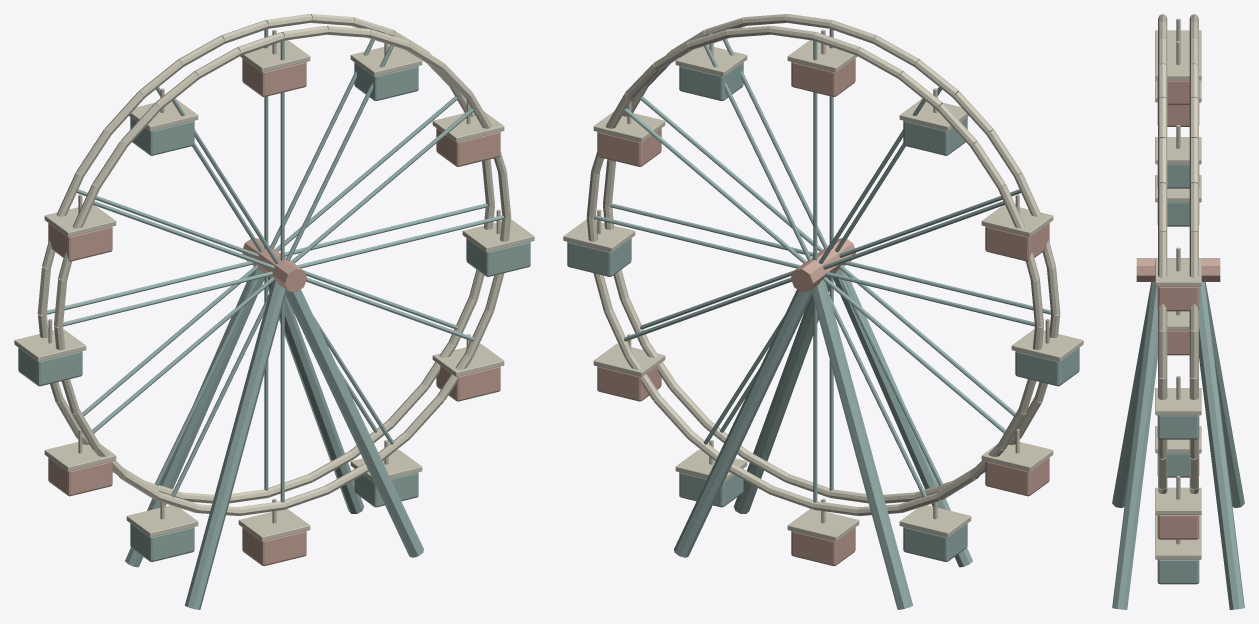
File: prop_ferris_wheel.glb
The picture shows the model from 3 angles, left to right: view 1: azimuth 30°, elevation 25°; view 2: azimuth 150°, elevation 25°; view 3: azimuth 270°, elevation 25°; orthographic projection. The views are drawn at different scales.
Visible parts, largest first — view 1: scenery_teal, scenery_cream, scenery_coral; view 2: scenery_teal, scenery_cream, scenery_coral; view 3: scenery_teal, scenery_cream, scenery_coral.
Boxes of the visible parts, x1,y1,x2,y2 form: scenery_teal: (18,29,530,609); scenery_cream: (14,14,534,541); scenery_coral: (48,58,500,566); scenery_teal: (567,29,1079,609); scenery_cream: (563,14,1083,541); scenery_coral: (597,58,1049,566); scenery_teal: (1112,164,1244,609); scenery_cream: (1155,14,1201,559); scenery_coral: (1136,80,1220,539).
Size of the model in its own units: 26.6 by 27.37 by 6.32.
